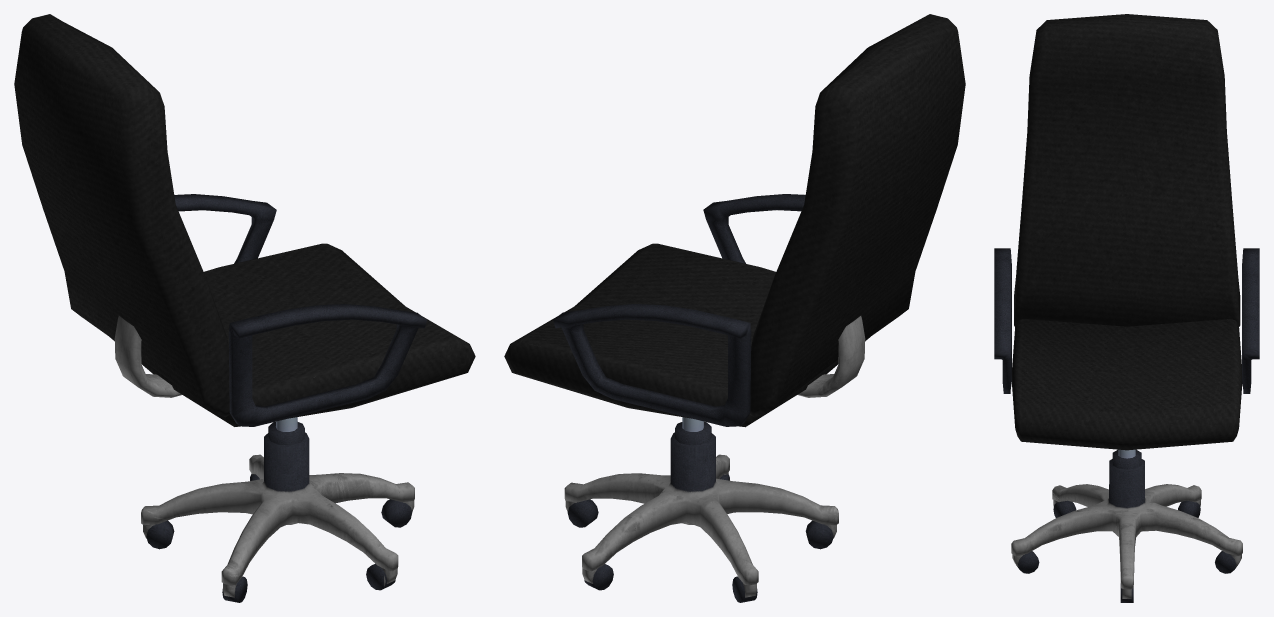
File: chaise_de_bureau.glb
3 renders of one model, left to right at view 1: azimuth 30°, elevation 25°; view 2: azimuth 150°, elevation 25°; view 3: azimuth 270°, elevation 25°, orthographic. The views are drawn at different scales.
Parts seen in each view (by area): view 1: chair; view 2: chair; view 3: chair.
Boxes of the visible parts, x1,y1,x2,y2 form: chair: (14, 14, 475, 602); chair: (504, 14, 965, 602); chair: (994, 14, 1259, 602).
Size of the model in its own units: 0.786 by 1.18 by 0.6176.
1 material, 1 textured.
